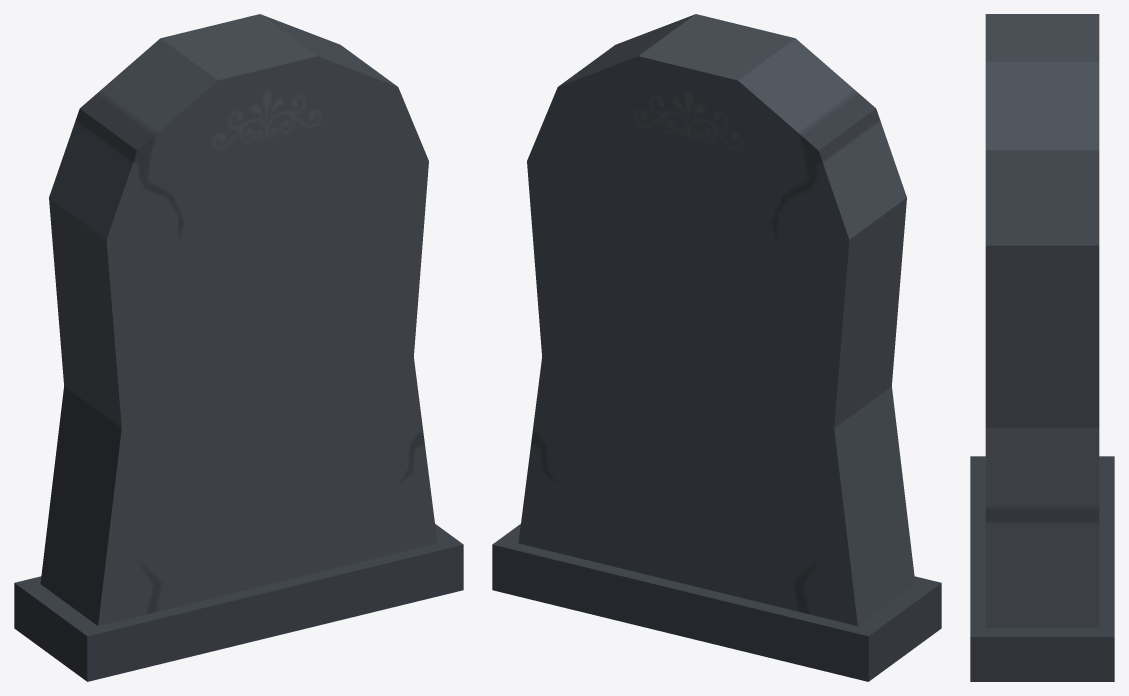
The model's file is Tombstone 02.fbx.
The picture shows the model from 3 angles, left to right: view 1: azimuth 30°, elevation 25°; view 2: azimuth 150°, elevation 25°; view 3: azimuth 270°, elevation 25°; orthographic projection.
Visible parts, largest first — view 1: Tombstone_02; view 2: Tombstone_02; view 3: Tombstone_02.
Boxes of the visible parts, bbox=[...] form: Tombstone_02: bbox=[14, 14, 463, 681]; Tombstone_02: bbox=[492, 14, 941, 681]; Tombstone_02: bbox=[970, 14, 1114, 681].
Bounding box in the file's own units: 57.16 × 81.61 × 19.25.
